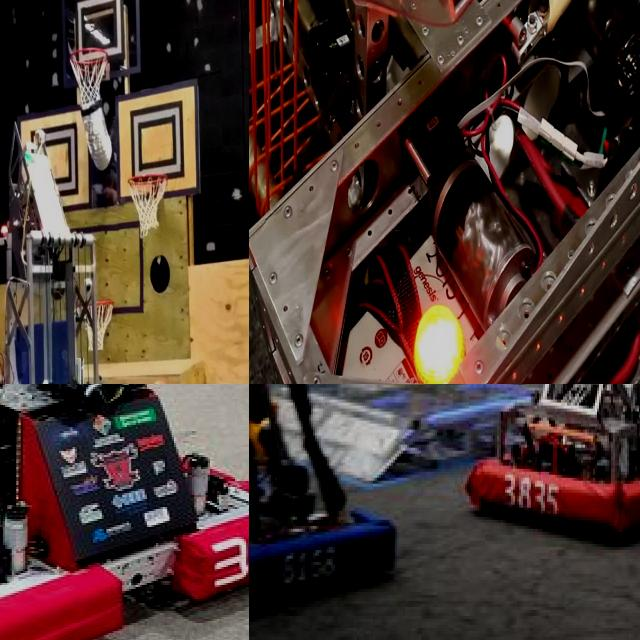FRC-Robots: (249, 0, 640, 384), (0, 384, 249, 640), (0, 0, 160, 384), (249, 384, 429, 628), (502, 384, 640, 580)
